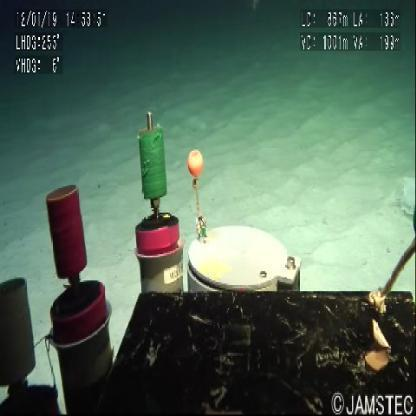Rác: (392, 176, 416, 216)
